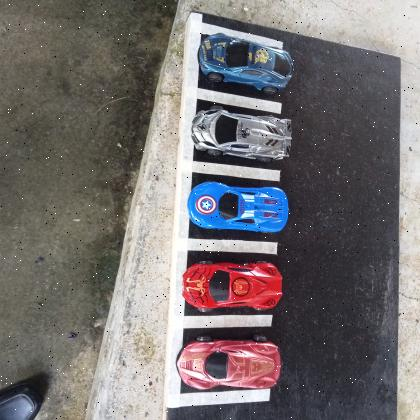Car: (189, 106, 294, 162), (175, 335, 281, 390), (199, 30, 294, 88), (185, 182, 289, 233), (182, 260, 283, 310)
